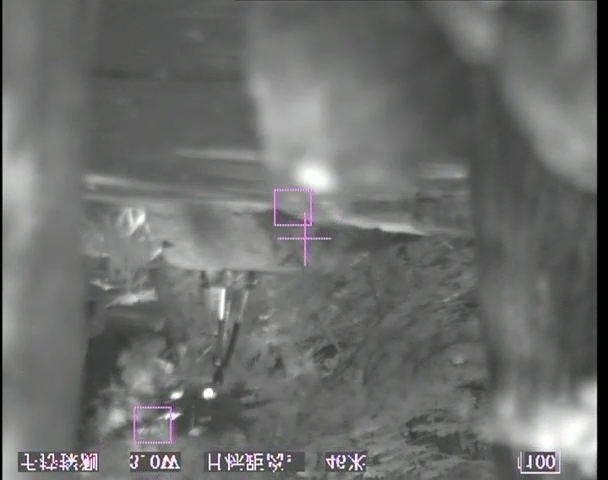my: (201, 387, 213, 400)
